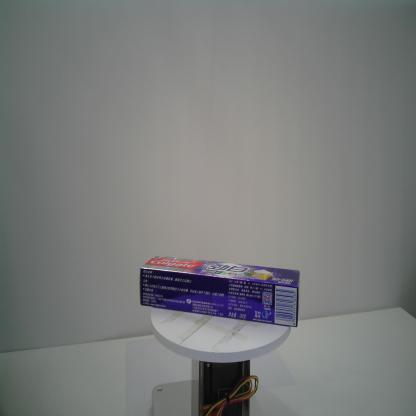Personal Hygiene: (136, 254, 301, 329)
